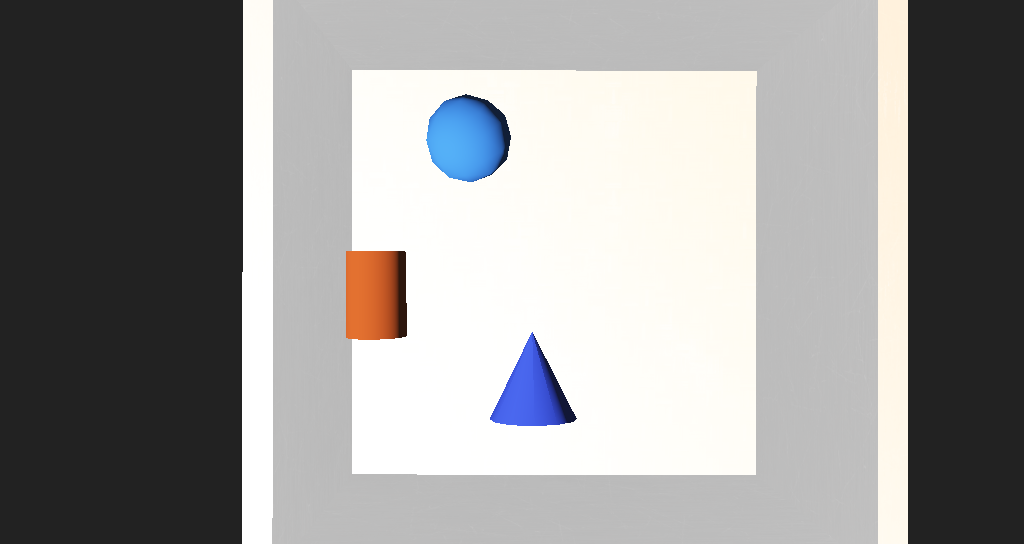cone: (344, 260, 397, 303)
cylinder: (461, 298, 522, 351)
sphere: (414, 179, 475, 222)
